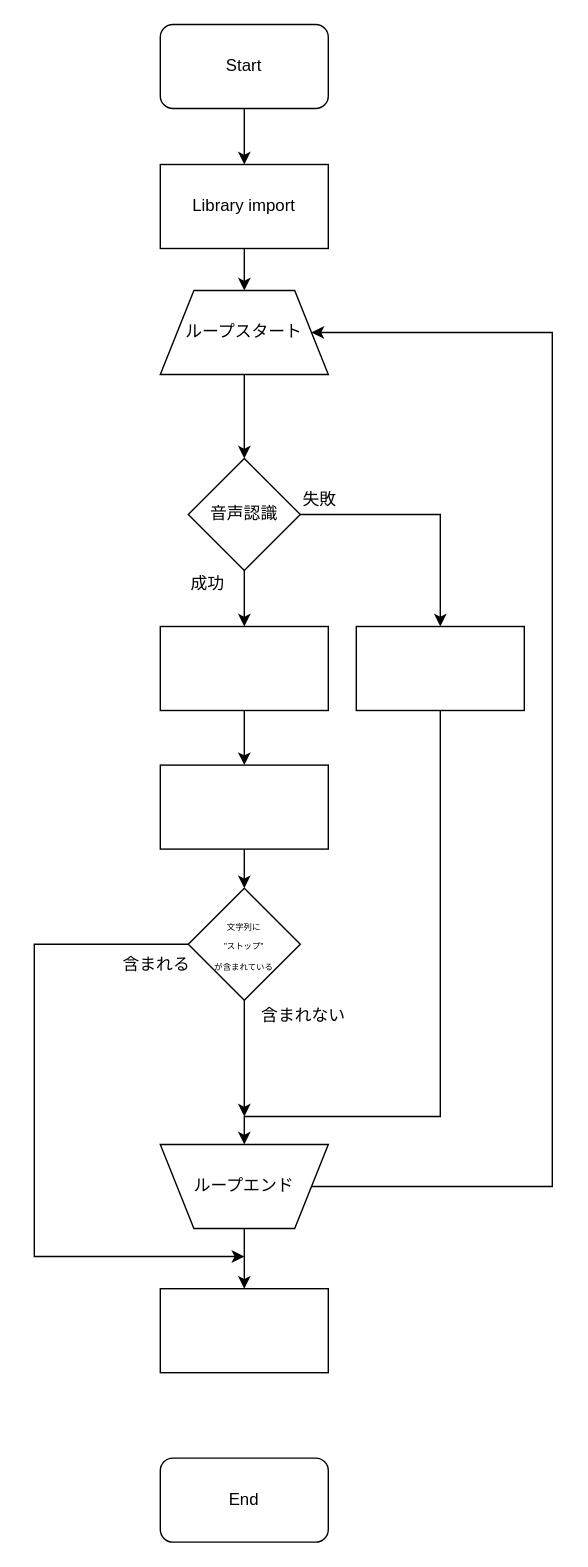
This 588x1567 diagram has some shape labels left out. The shapes that lost their labels are listed below. From the top down, each one's centre as x and y in pixels, then its label:
At point (243, 667): "ノイズ削除 文字列データに変換".
At point (439, 667): "よく聞き取れませんでしたと表示".
At point (243, 806): "文字列の形態素分析".
At point (243, 1330): "終了処理".
